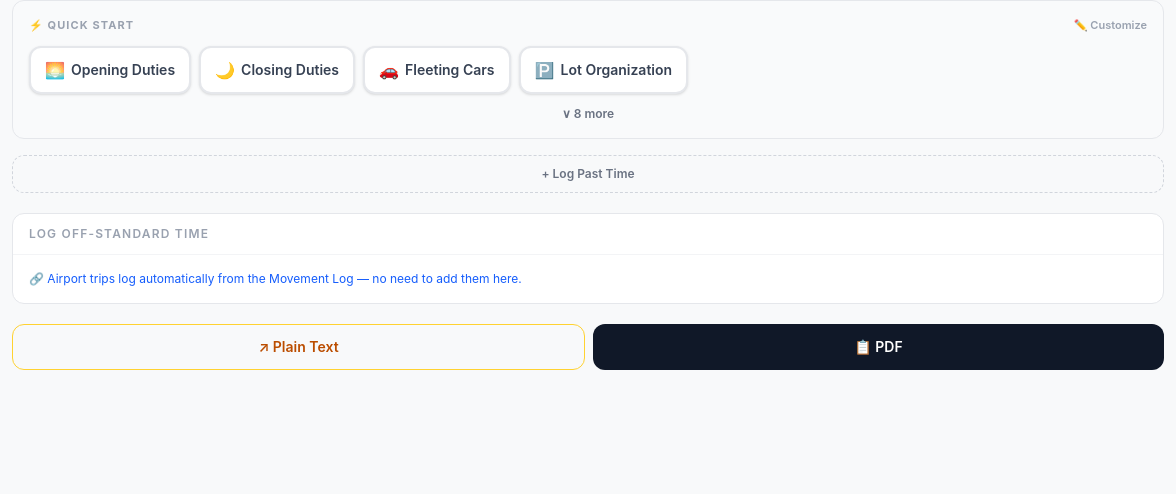
OffStandardTimeLog Component › ends a timer online and updates supabase if ran >= 5 mins
The width and height of the screenshot is (1176, 494).
Click the text "Opening Duties": (123, 70) top-left (71, 60), bottom-right (175, 80)
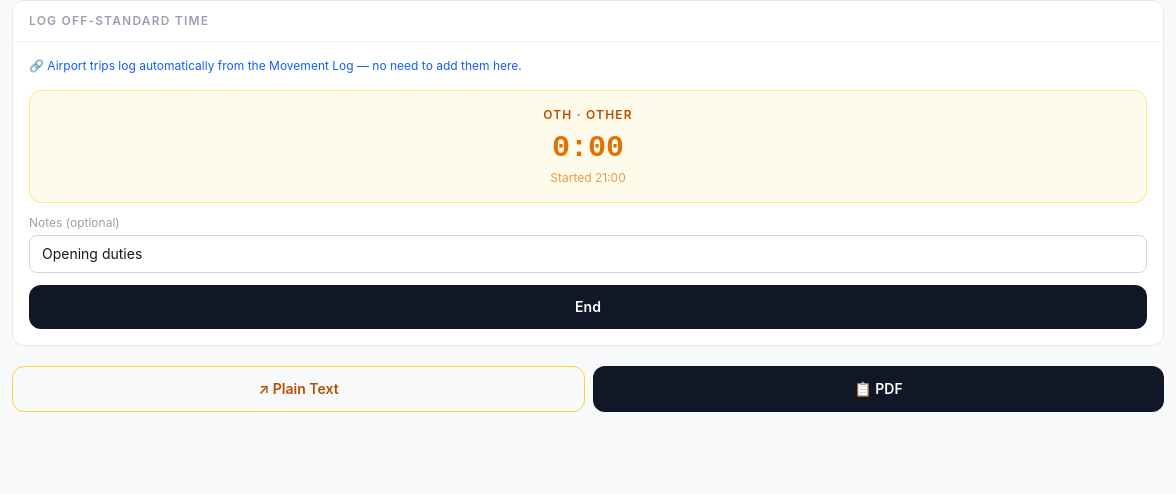
Click the button "End": (588, 307) top-left (29, 285), bottom-right (1147, 329)
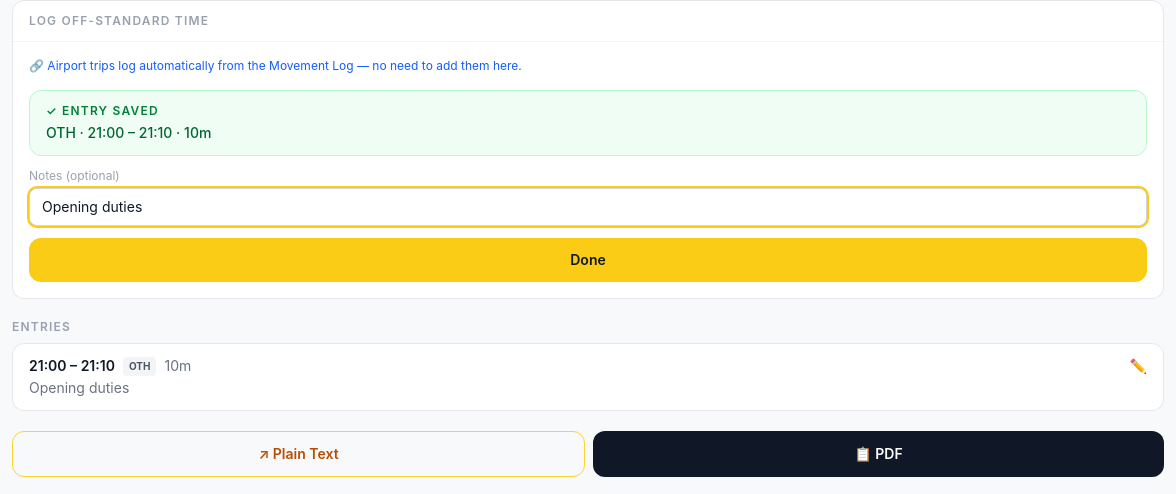
Expected: the text "✓ Entry saved" is shown, top-left (46, 103), bottom-right (159, 118)
